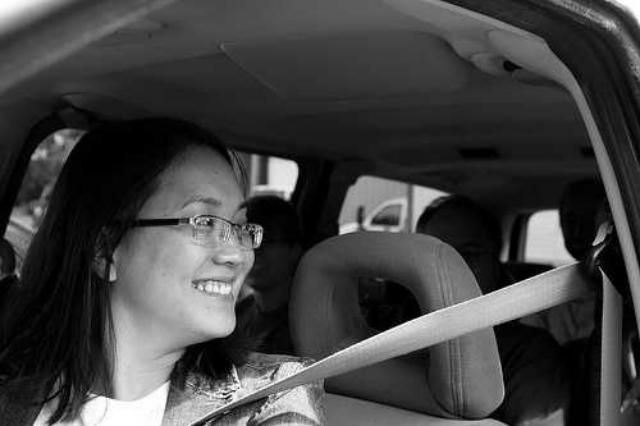SafeDriving: (188, 207, 220, 233)
Seatbelt: (183, 240, 629, 425)
